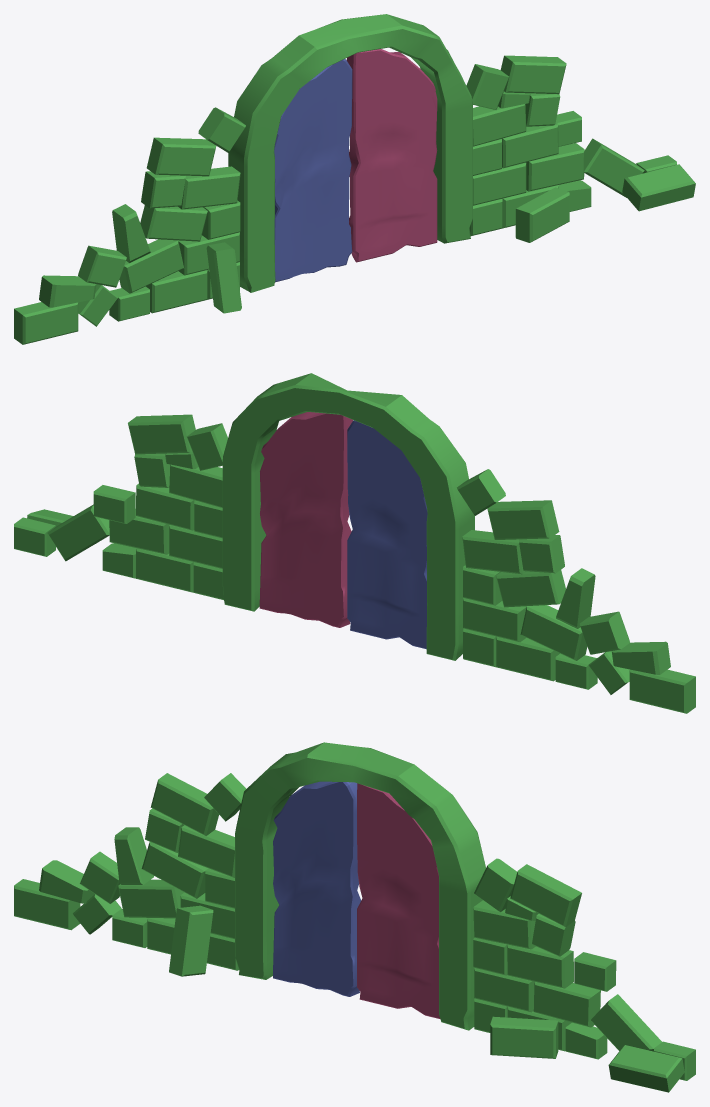
The model's file is placeholder_door.fbx.
3 renders of one model, top to bottom at view 1: azimuth 30°, elevation 25°; view 2: azimuth 150°, elevation 25°; view 3: azimuth 330°, elevation 25°, orthographic. The views are drawn at different scales.
Visible parts, largest first — view 1: door_1; view 2: door_1; view 3: door_1.
Part boxes in pixels (x1,y1,x2,y2): door_1: [14, 14, 695, 344]; door_1: [14, 373, 695, 713]; door_1: [14, 742, 695, 1092].
Size of the model in its own units: 819 by 282 by 98.82.
